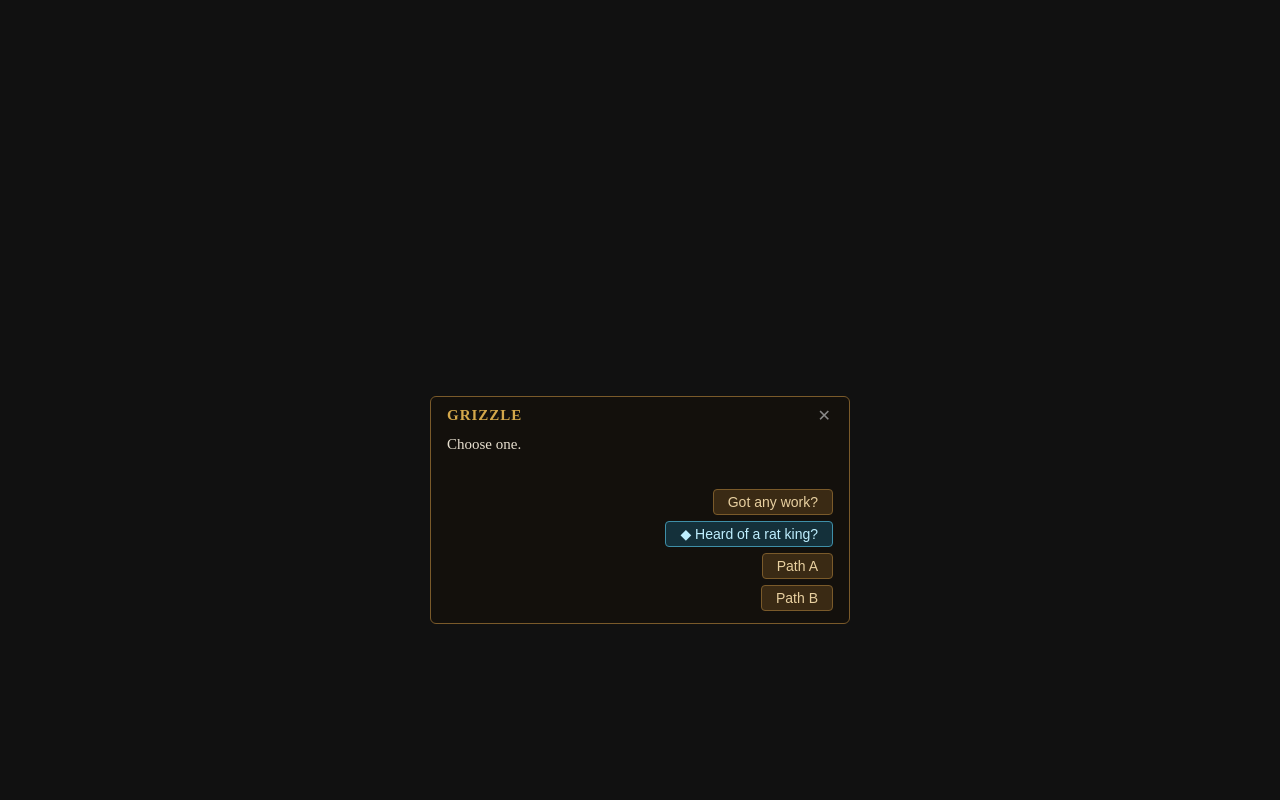
Test: DialogueWindow › quest offers › only offers quests at the top of the conversation
Click the button "Path A" at (797, 566), box 762,553 -> 833,579
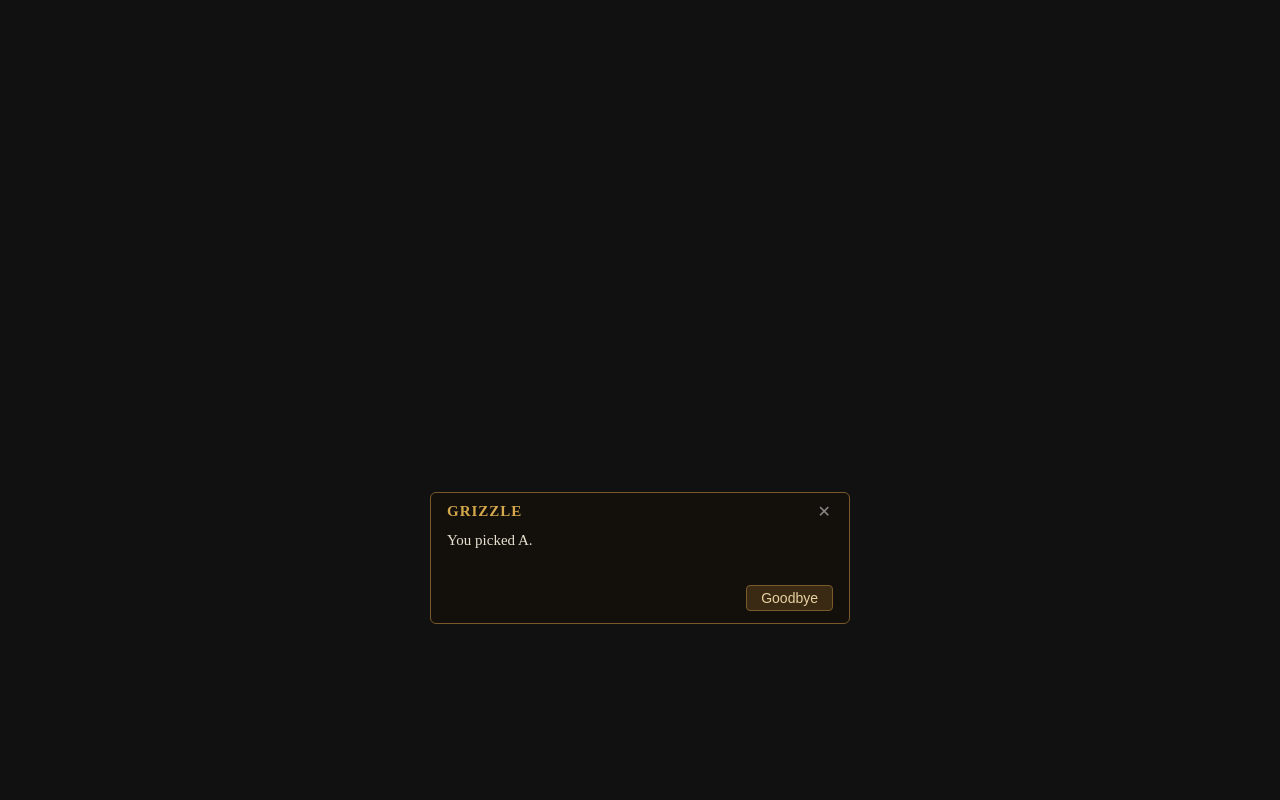
Expected: the button "Got any work?" is gone
